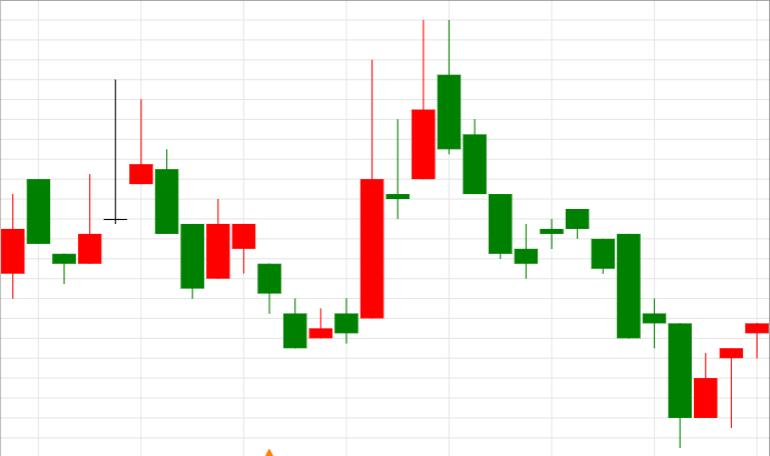three_black_crows_fall: (309, 20, 512, 342)
